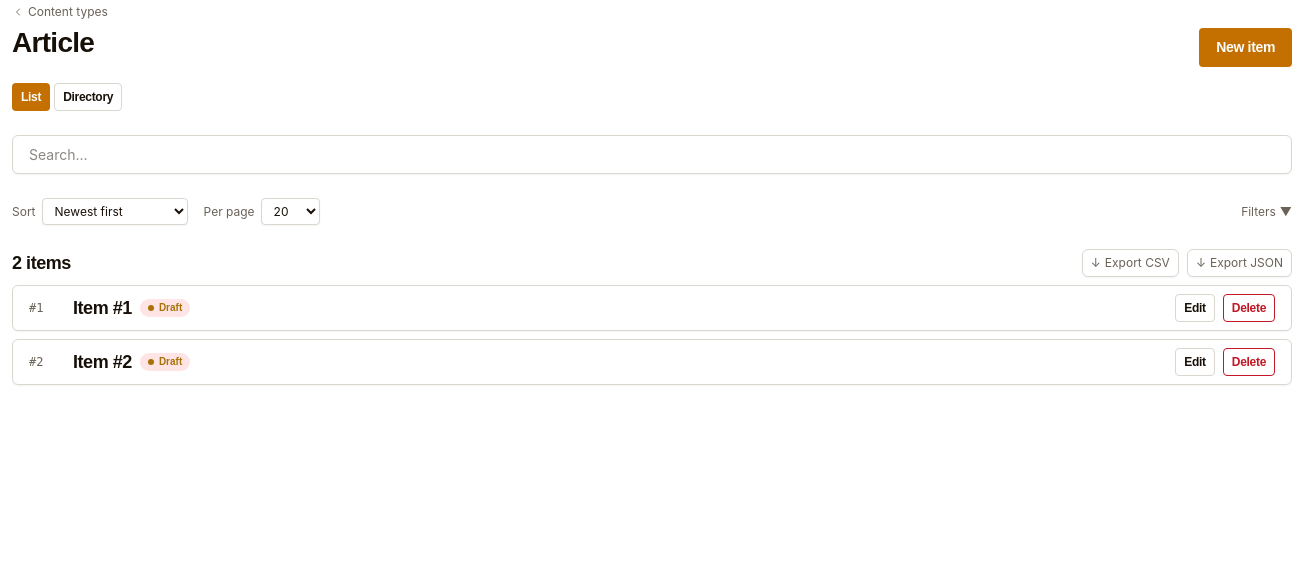
Test case: EntityRecordsPage › filters records by selected relation target
Expected: the text "Item #1" is shown, [73,298,132,317]
Expected: the text "Item #2" is shown, [73,352,132,371]
Note: 絞り込みアコーディオンを開く
Click the button "Filters ▼" at {"x": 1267, "y": 212}, box [1241,202,1292,220]
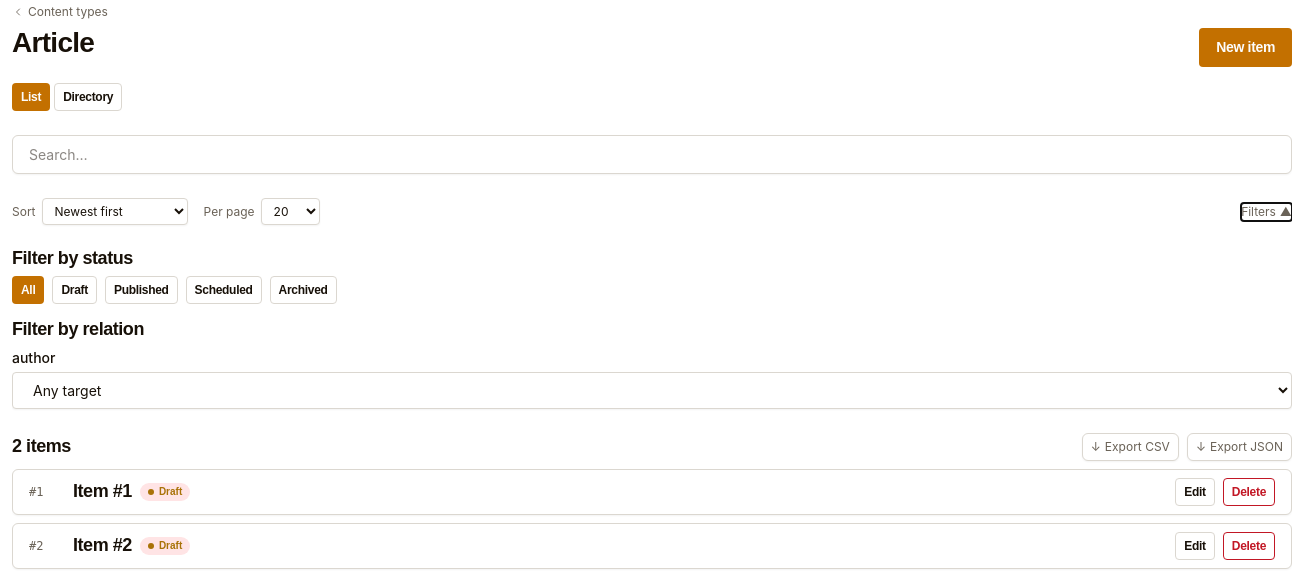
Select "Record #10" in the dropdown labelled "author" at {"x": 652, "y": 390}, box [12,372,1292,409]
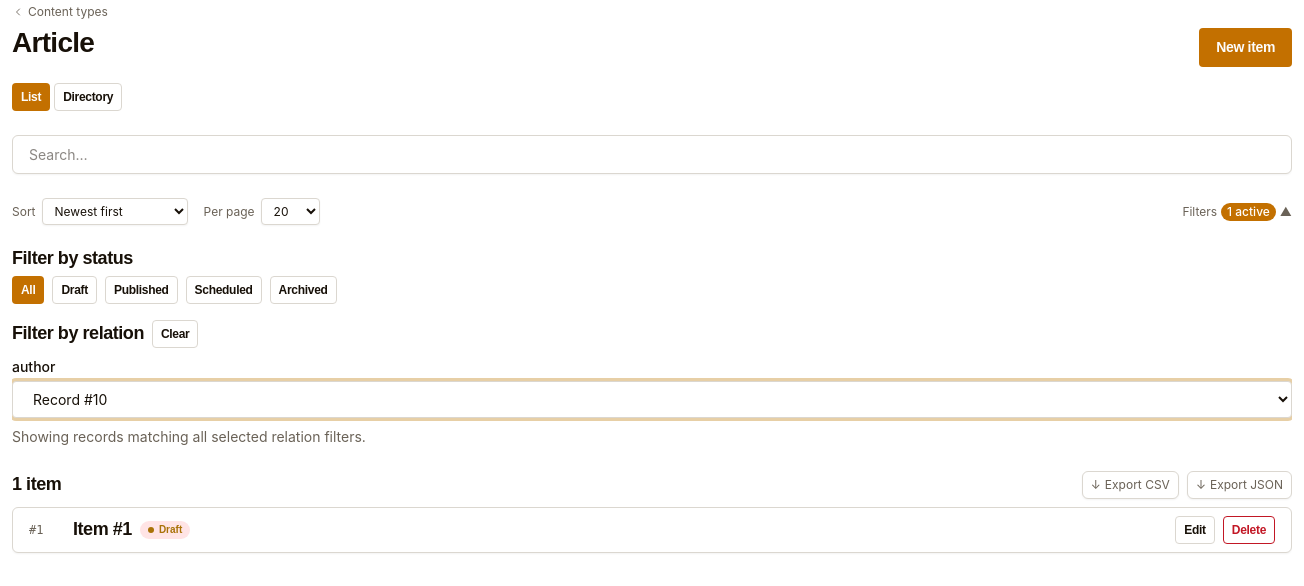
Expected: the text "Item #1" is shown, [73,520,132,539]
Result: the text "Item #2" is gone
Result: the heading "1 item" is shown at [12,475,61,494]
Click the button "Clear" at {"x": 175, "y": 334}, box [152,320,198,348]
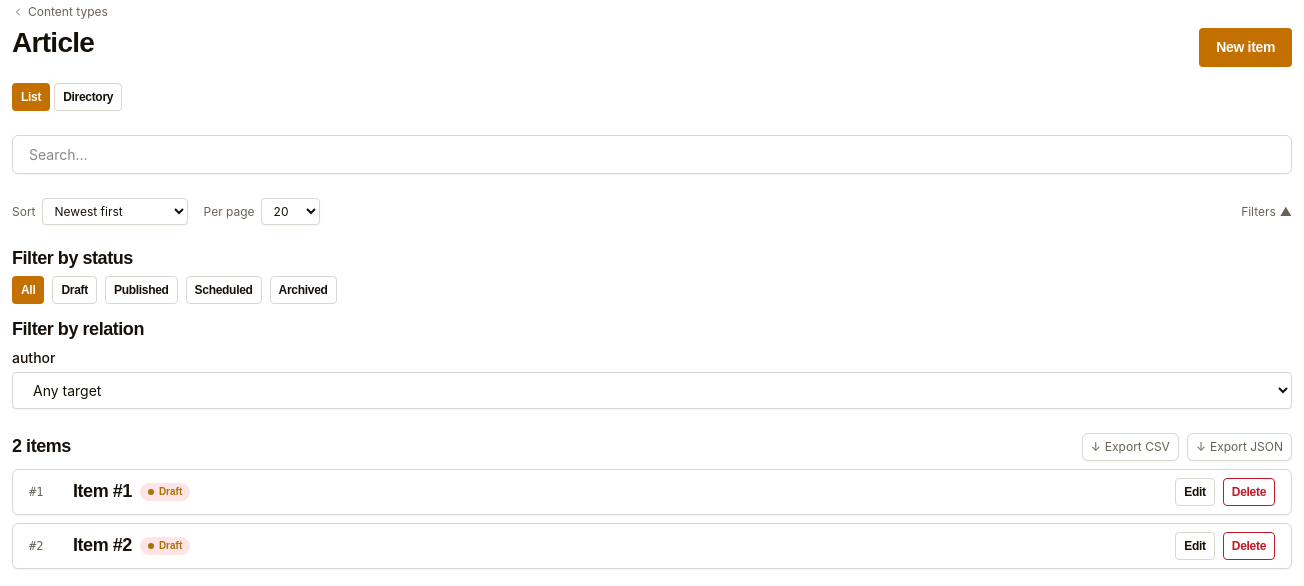
Expected: the text "Item #1" is shown, [73,482,132,501]
Result: the text "Item #2" is shown at [73,536,132,555]
Result: the heading "2 items" is shown at [12,437,71,456]
